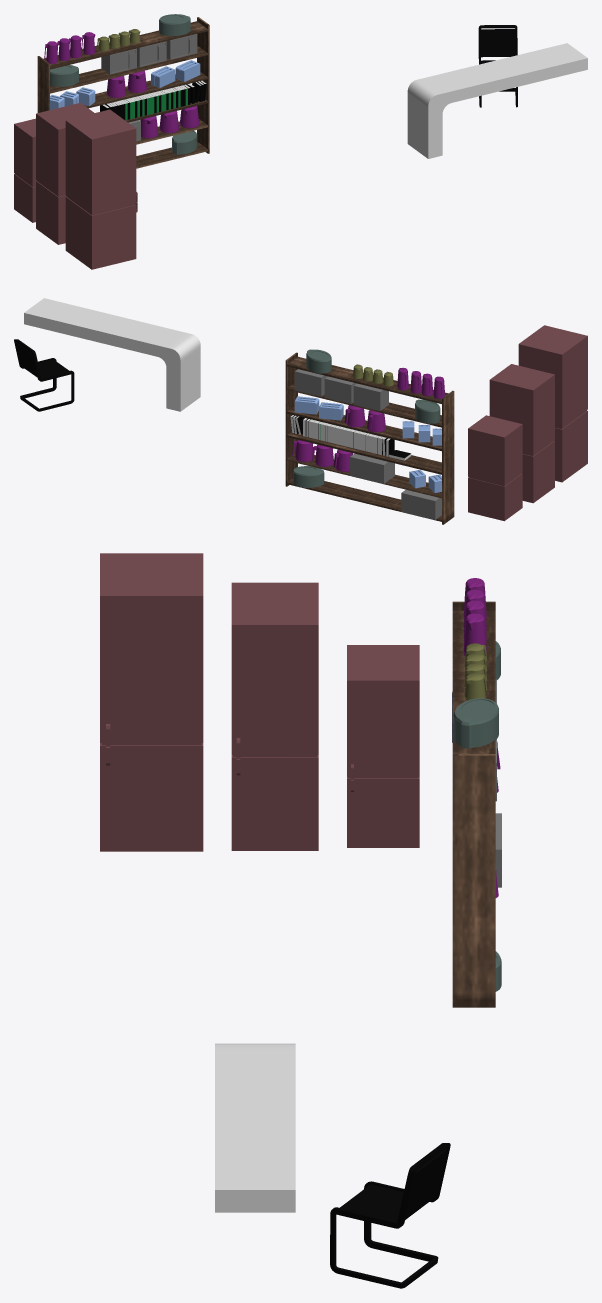
File: tephaty_props.fbx
The picture shows the model from 3 angles, top to bottom: view 1: azimuth 30°, elevation 25°; view 2: azimuth 150°, elevation 25°; view 3: azimuth 270°, elevation 25°; orthographic projection. The views are drawn at different scales.
Parts seen in each view (by area): view 1: Cylinder.006; view 2: Cylinder.006; view 3: Cylinder.006.
Boxes of the visible parts, <box> form: Cylinder.006: <box>14,14,587,269</box>; Cylinder.006: <box>14,298,587,524</box>; Cylinder.006: <box>100,553,501,1288</box>.
Bounding box in the file's own units: 990 × 258 × 334.
